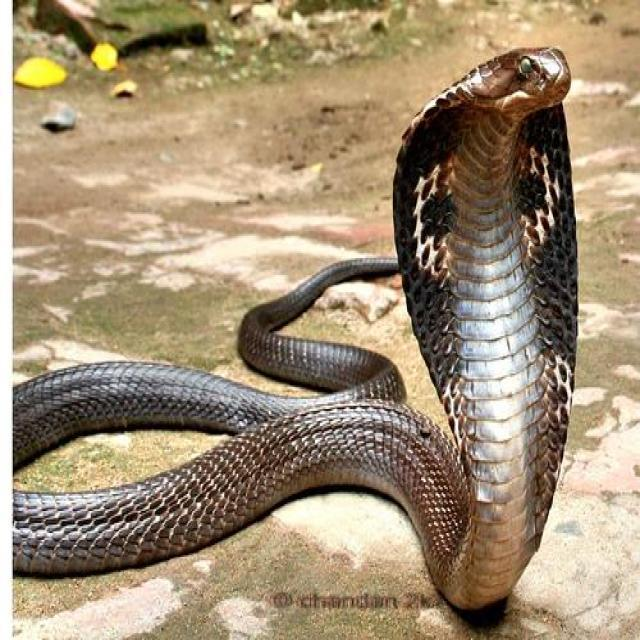Snake: (8, 27, 586, 611)
